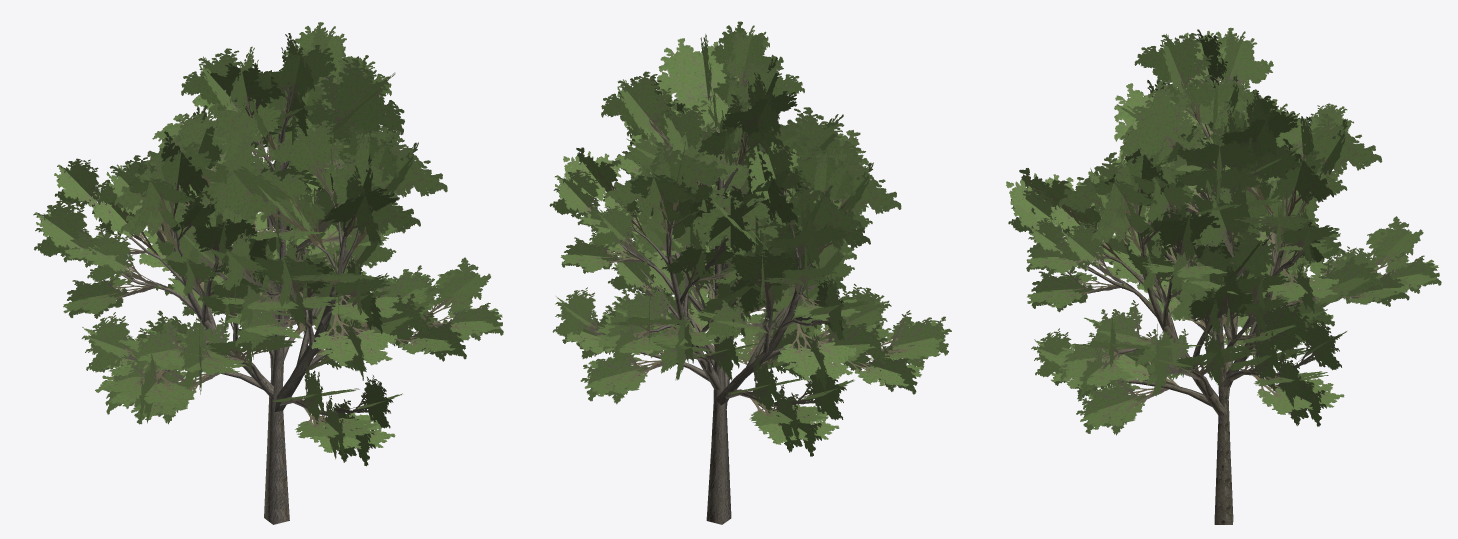
The model's file is RobiniaPseudoacacia.glb.
The picture shows the model from 3 angles, left to right: view 1: azimuth 30°, elevation 25°; view 2: azimuth 150°, elevation 25°; view 3: azimuth 270°, elevation 25°; orthographic projection. The views are drawn at different scales.
Parts seen in each view (by area): view 1: Black_Locust__Realistic_LOD3; view 2: Black_Locust__Realistic_LOD3; view 3: Black_Locust__Realistic_LOD3.
Part boxes in pixels (x1=…): Black_Locust__Realistic_LOD3: x1=33, y1=22, x2=503, y2=524; Black_Locust__Realistic_LOD3: x1=549, y1=21, x2=951, y2=524; Black_Locust__Realistic_LOD3: x1=1006, y1=27, x2=1441, y2=524.
Size of the model in its own units: 22.28 by 27.84 by 22.9.
1 material, 1 textured.
